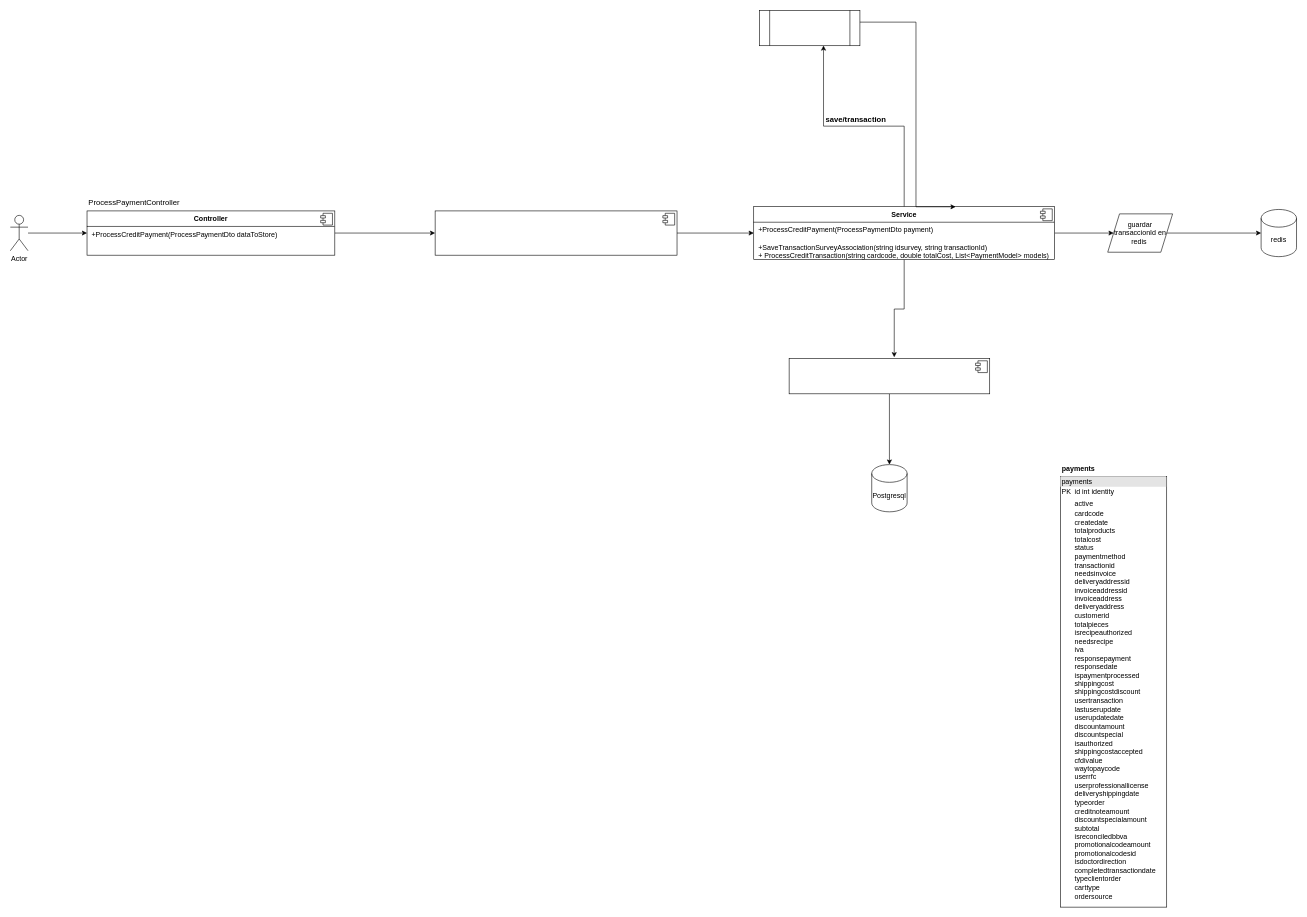
This 1307x917 diagram has some shape labels left out. Here are the shapes that lost their labels. From the top down, the centre of each, then its label:
point 809,28: ShoppingCartService
point 556,232: Facade +ProcessCreditPayment(ProcessPaymentDto payment)
point 889,376: DAO + SavePayments( List<PaymentModel> payments )
